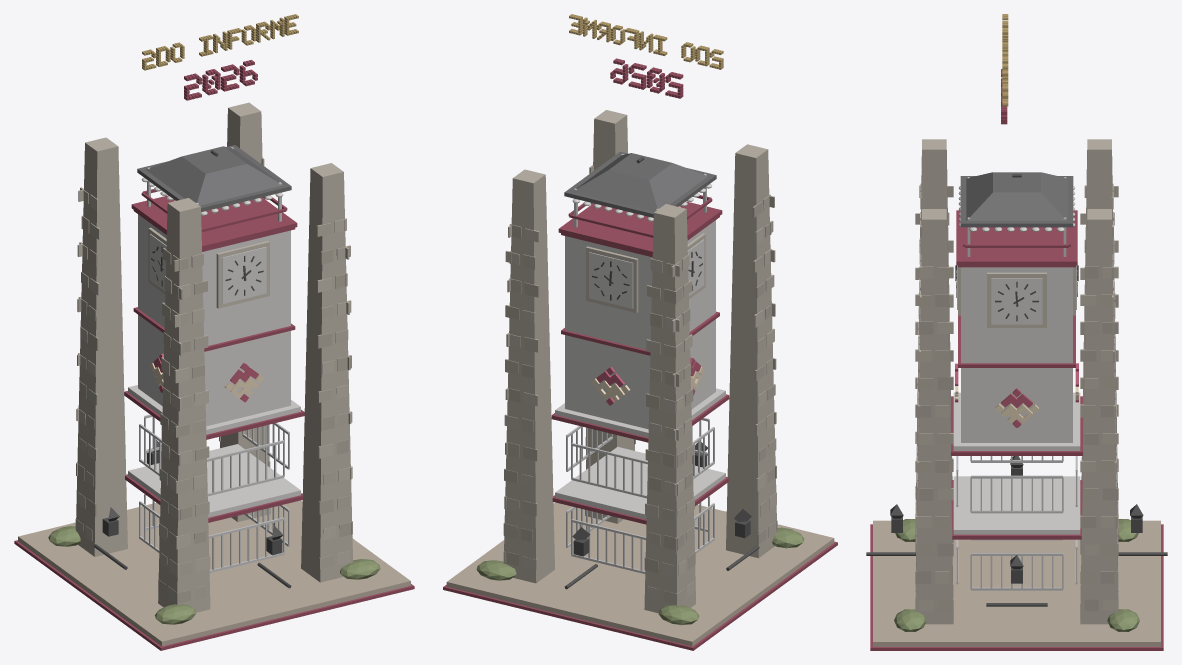
The model's file is reloj_monumento_ar_v6.glb.
3 renders of one model, left to right at view 1: azimuth 30°, elevation 25°; view 2: azimuth 150°, elevation 25°; view 3: azimuth 270°, elevation 25°, orthographic.
Visible parts, largest first — view 1: reloj_monumento; view 2: reloj_monumento; view 3: reloj_monumento.
Part boxes in pixels (x1,y1,x2,y2): reloj_monumento: (14,14,414,650); reloj_monumento: (443,14,837,650); reloj_monumento: (866,14,1167,650).
Size of the model in its own units: 1.16 by 2.35 by 1.19.
